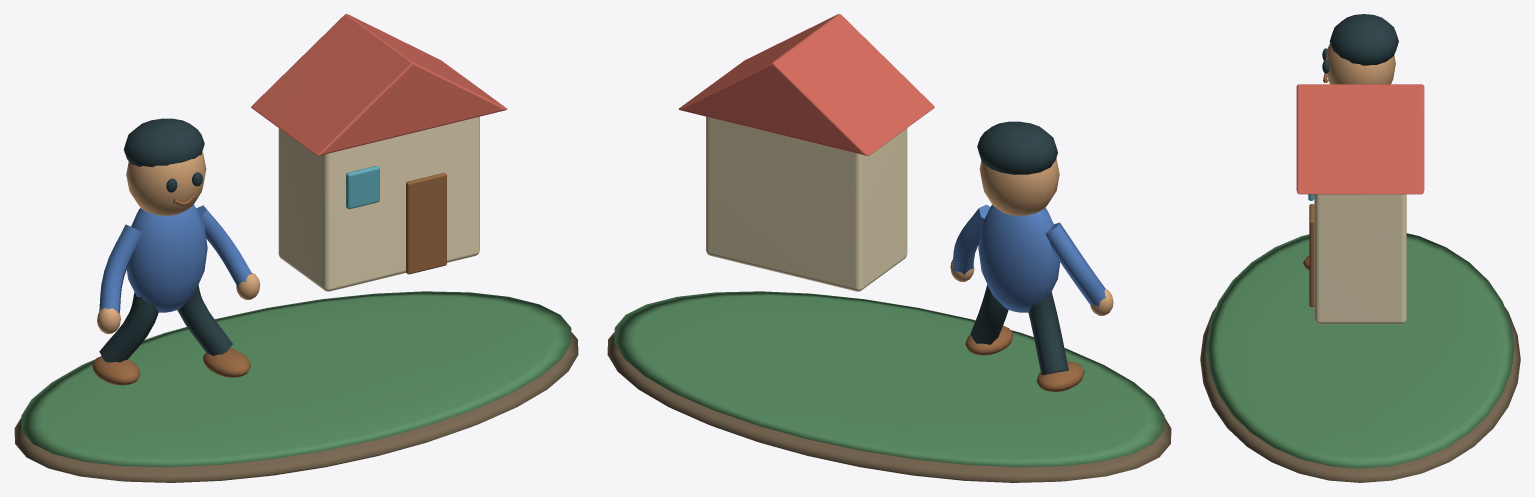
The model's file is stop-pavilion.glb.
The picture shows the model from 3 angles, left to right: view 1: azimuth 30°, elevation 25°; view 2: azimuth 150°, elevation 25°; view 3: azimuth 270°, elevation 25°; orthographic projection. The views are drawn at different scales.
Visible parts, largest first — view 1: stop-pavilion_surface_01, stop-pavilion_surface_06, stop-pavilion_surface_07, stop-pavilion_surface_00, stop-pavilion_surface_05, stop-pavilion_surface_03, stop-pavilion_surface_04, stop-pavilion_surface_02, stop-pavilion_surface_08; view 2: stop-pavilion_surface_01, stop-pavilion_surface_06, stop-pavilion_surface_07, stop-pavilion_surface_00, stop-pavilion_surface_05, stop-pavilion_surface_03, stop-pavilion_surface_02, stop-pavilion_surface_04; view 3: stop-pavilion_surface_01, stop-pavilion_surface_07, stop-pavilion_surface_06, stop-pavilion_surface_00, stop-pavilion_surface_03, stop-pavilion_surface_02, stop-pavilion_surface_04.
Part boxes in pixels (x1,y1,x2,y2): stop-pavilion_surface_01: (21, 291, 571, 467); stop-pavilion_surface_06: (278, 116, 479, 291); stop-pavilion_surface_07: (251, 14, 507, 155); stop-pavilion_surface_00: (14, 332, 578, 482); stop-pavilion_surface_05: (99, 205, 251, 313); stop-pavilion_surface_03: (99, 118, 232, 362); stop-pavilion_surface_04: (92, 173, 446, 385); stop-pavilion_surface_02: (97, 152, 260, 333); stop-pavilion_surface_08: (346, 166, 379, 209); stop-pavilion_surface_01: (614, 291, 1164, 467); stop-pavilion_surface_06: (706, 116, 907, 291); stop-pavilion_surface_07: (678, 14, 934, 155); stop-pavilion_surface_00: (607, 332, 1171, 482); stop-pavilion_surface_05: (952, 204, 1105, 312); stop-pavilion_surface_03: (970, 121, 1068, 375); stop-pavilion_surface_02: (950, 158, 1113, 315); stop-pavilion_surface_04: (965, 325, 1084, 391); stop-pavilion_surface_01: (1206, 233, 1514, 468); stop-pavilion_surface_07: (1296, 84, 1424, 194); stop-pavilion_surface_06: (1314, 194, 1406, 324); stop-pavilion_surface_00: (1200, 307, 1520, 482); stop-pavilion_surface_03: (1322, 14, 1398, 73); stop-pavilion_surface_02: (1326, 43, 1395, 84); stop-pavilion_surface_04: (1303, 73, 1328, 307).
Size of the model in its own units: 4.56 by 2.82 by 2.5.
